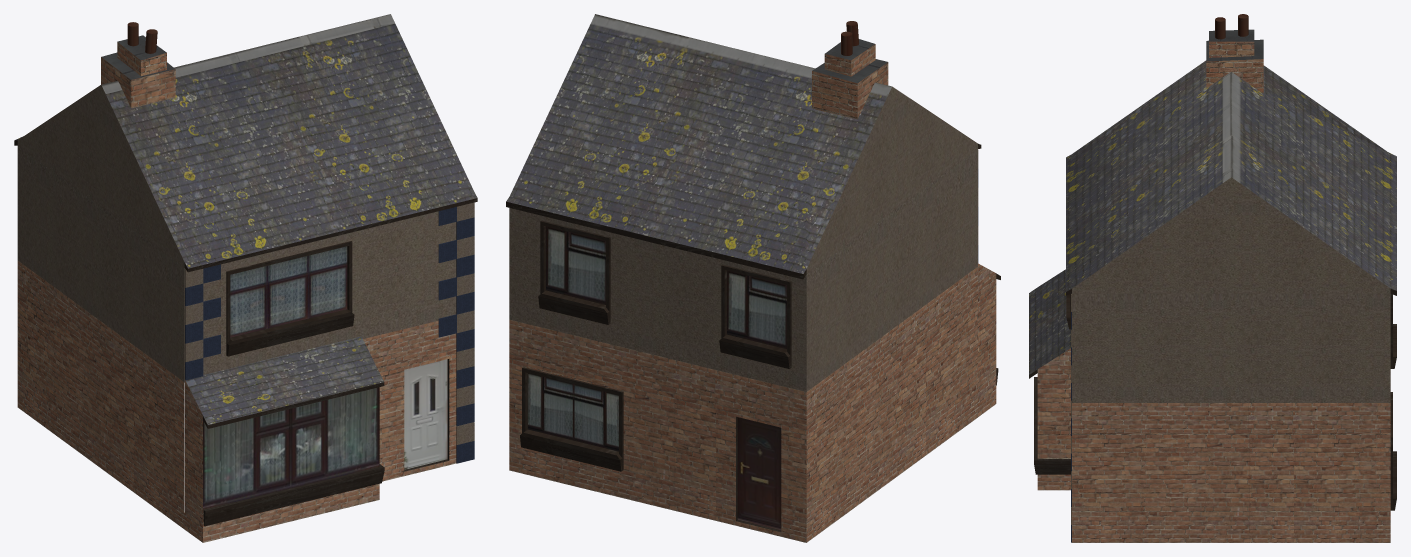
File: terraced4a.FBX
The picture shows the model from 3 angles, left to right: view 1: azimuth 30°, elevation 25°; view 2: azimuth 150°, elevation 25°; view 3: azimuth 270°, elevation 25°; orthographic projection. The views are drawn at different scales.
Visible parts, largest first — view 1: Box001; view 2: Box001; view 3: Box001.
Boxes of the visible parts, x1,y1,x2,y2 form: Box001: (14, 14, 477, 542); Box001: (506, 14, 1000, 542); Box001: (1029, 14, 1396, 542).
Bounding box in the file's own units: 800 × 1136 × 924.
